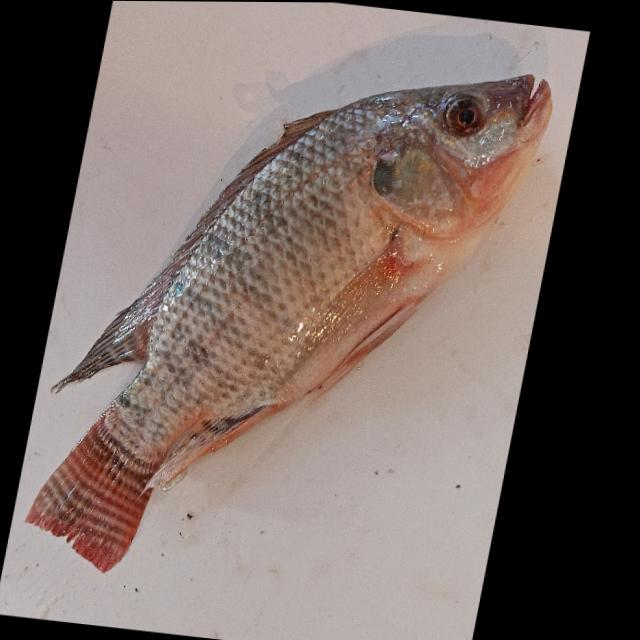Tilapia: (11, 29, 560, 615)
